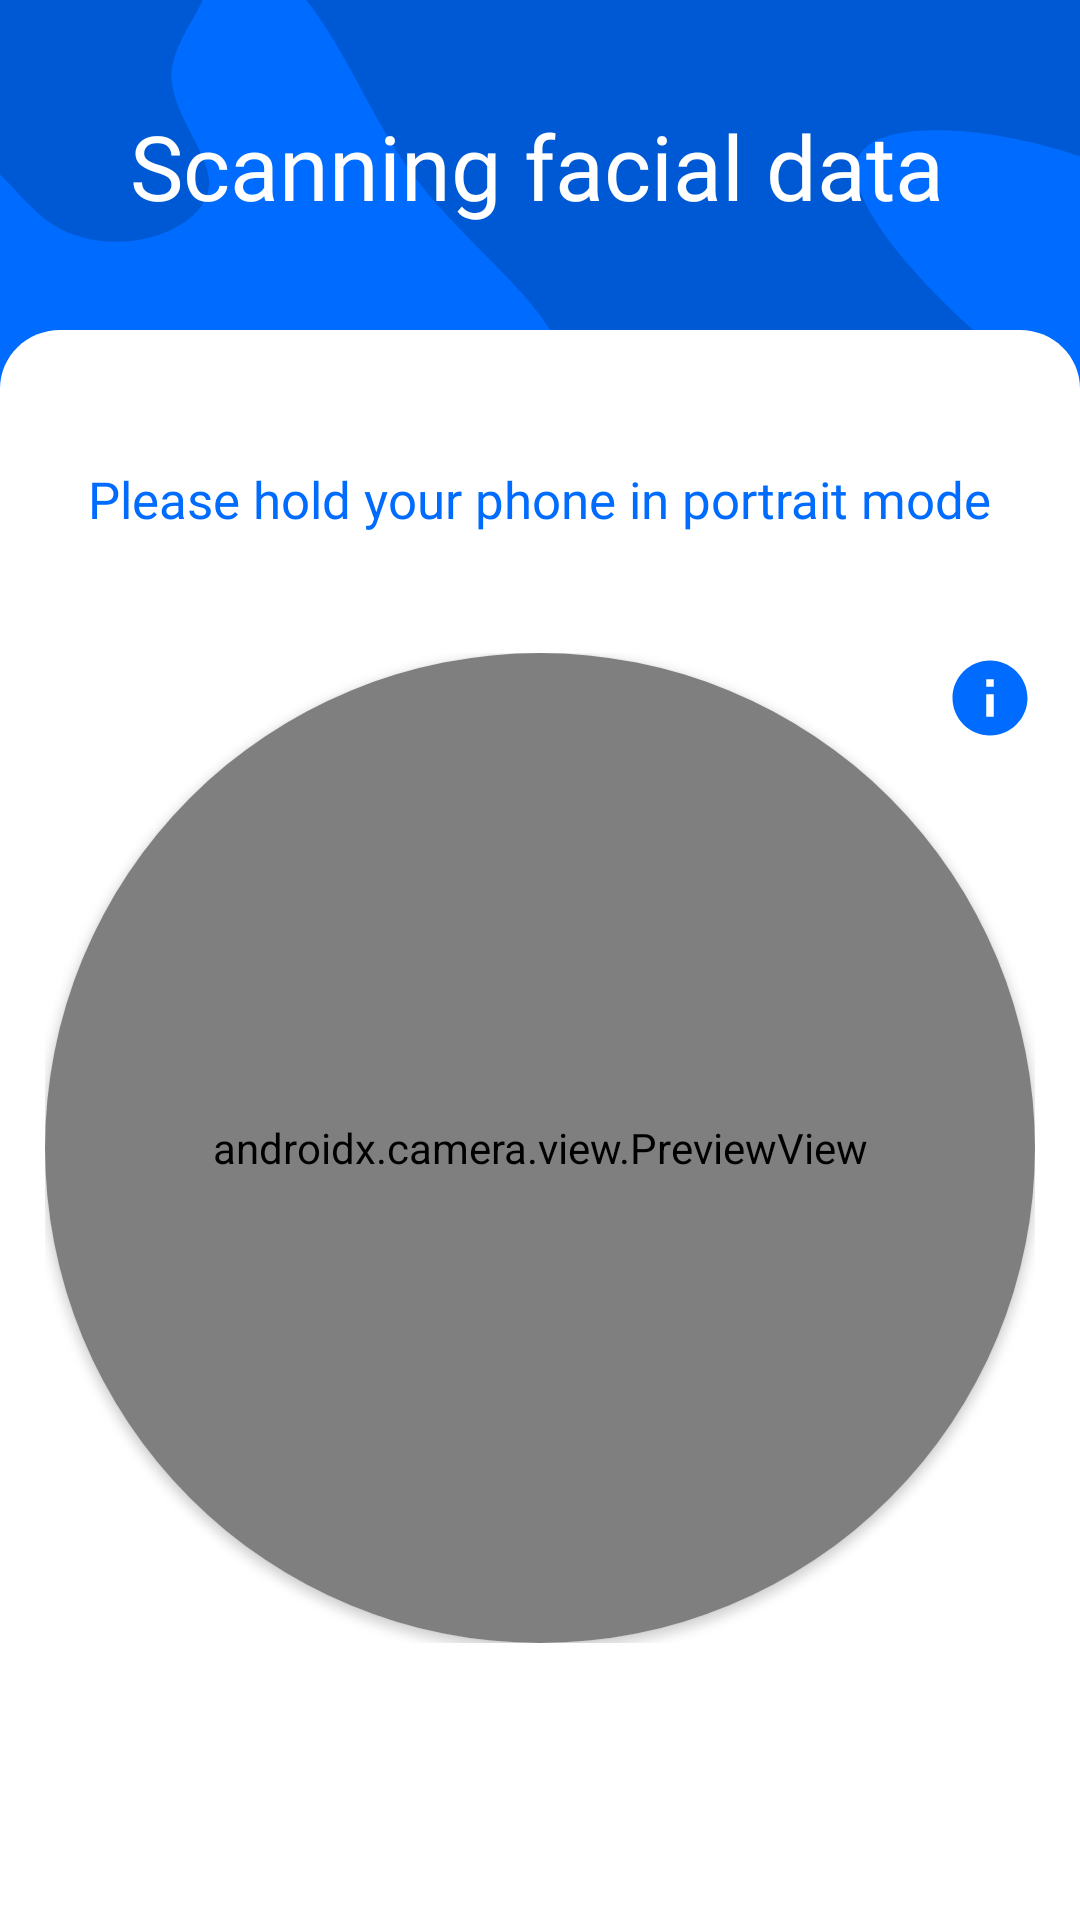

Icon click points for this 1080x1920 phone screenshot, format (x=x, y=y):
info: (x=990, y=698)
